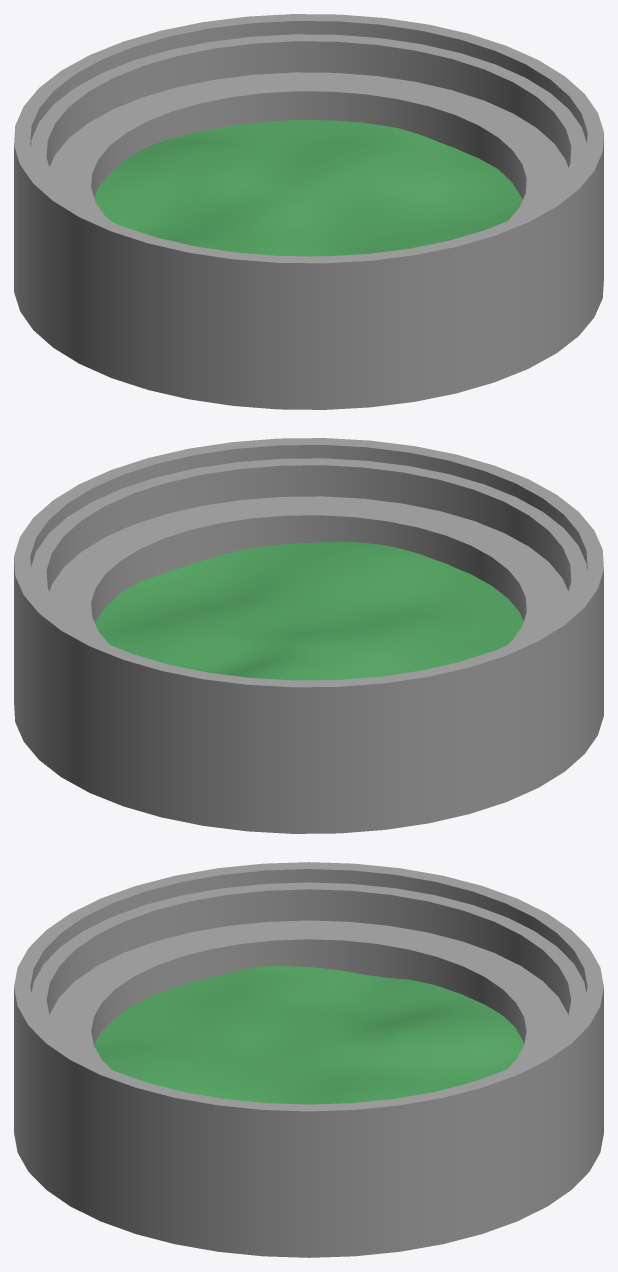
Rendered from Poll.fbx.
3 views of the same model, one above another, from view 1: azimuth 30°, elevation 25°; view 2: azimuth 150°, elevation 25°; view 3: azimuth 270°, elevation 25° (orthographic).
Visible parts, largest first — view 1: pDisc2; view 2: pDisc2; view 3: pDisc2.
Part boxes in pixels (x1,y1,x2,y2): pDisc2: (14, 14, 603, 409); pDisc2: (14, 438, 603, 833); pDisc2: (14, 862, 603, 1257).
Bounding box in the file's own units: 163 × 44.69 × 163.
